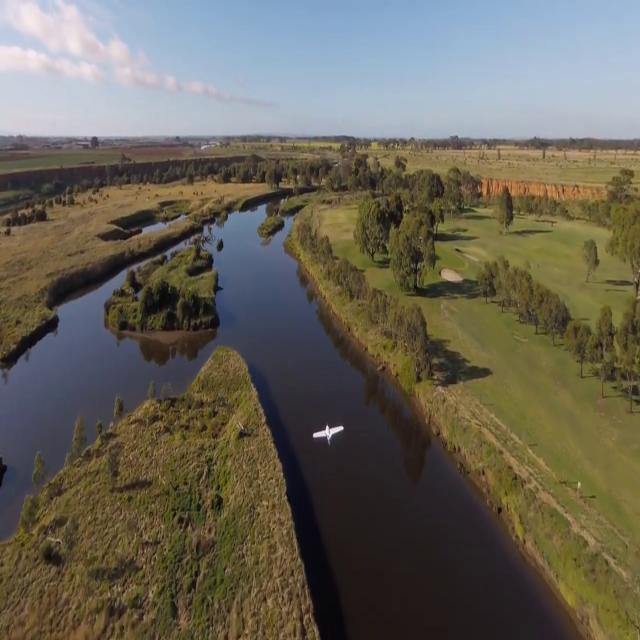iha: (305, 421, 338, 452)
